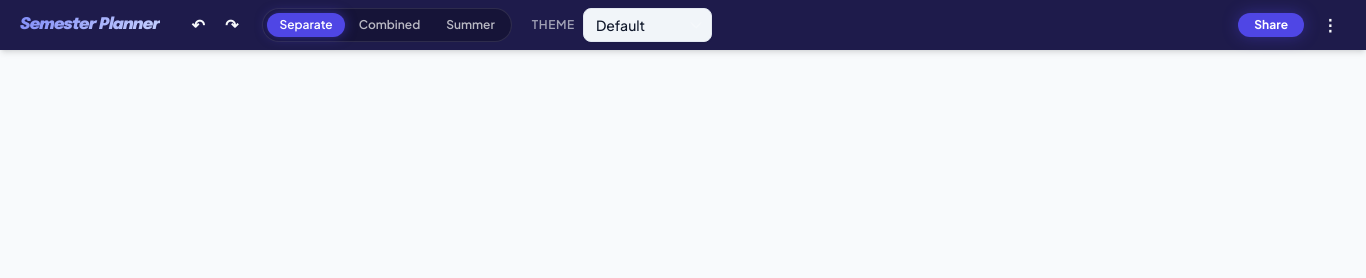
Scenario: TopBar › opens overflow menu and shows actions
Step 1. Click the button "⋮" → (1330, 25), box x1=1314 y1=9 x2=1346 y2=41
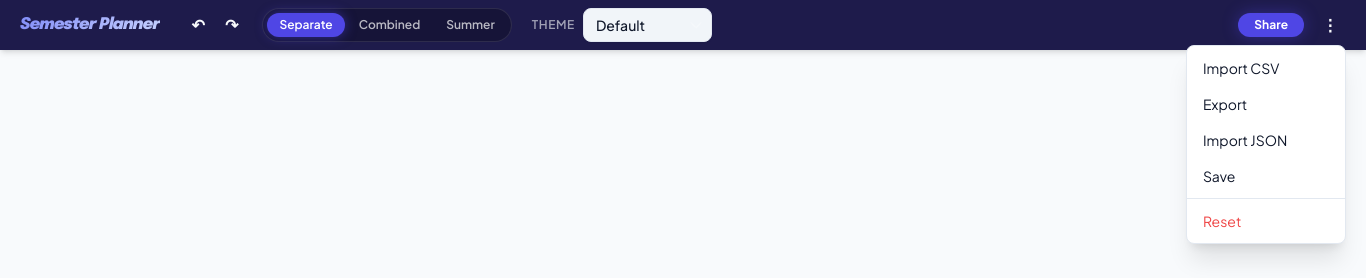
Expected: the button "Import CSV" is shown, x1=1187 y1=50 x2=1345 y2=86
Expected: the button "Export" is shown, x1=1187 y1=86 x2=1345 y2=122
Expected: the button "Import JSON" is shown, x1=1187 y1=122 x2=1345 y2=158
